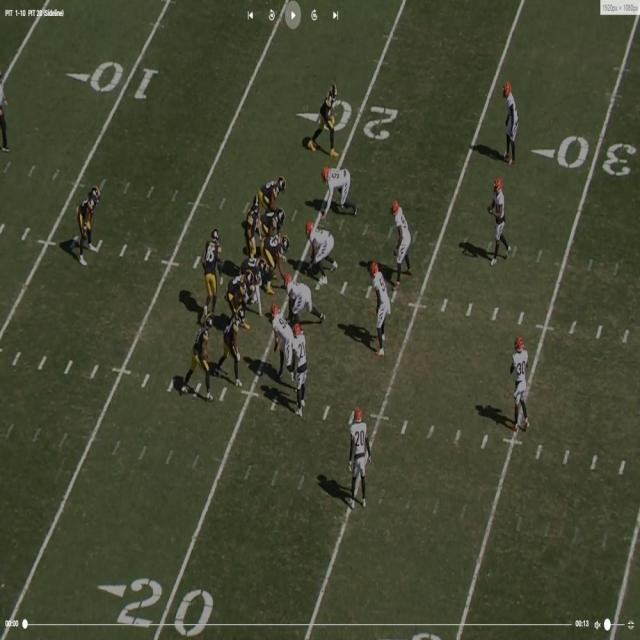center: (262, 234, 294, 280)
db: (351, 420, 367, 507), (292, 323, 306, 417), (516, 344, 530, 427), (496, 178, 507, 260), (506, 78, 516, 152)
lb: (371, 265, 392, 354), (392, 202, 413, 280)
qb: (246, 192, 264, 264)
skill: (201, 230, 221, 314), (79, 182, 100, 260), (318, 81, 339, 156), (224, 310, 243, 386), (197, 320, 212, 404)
